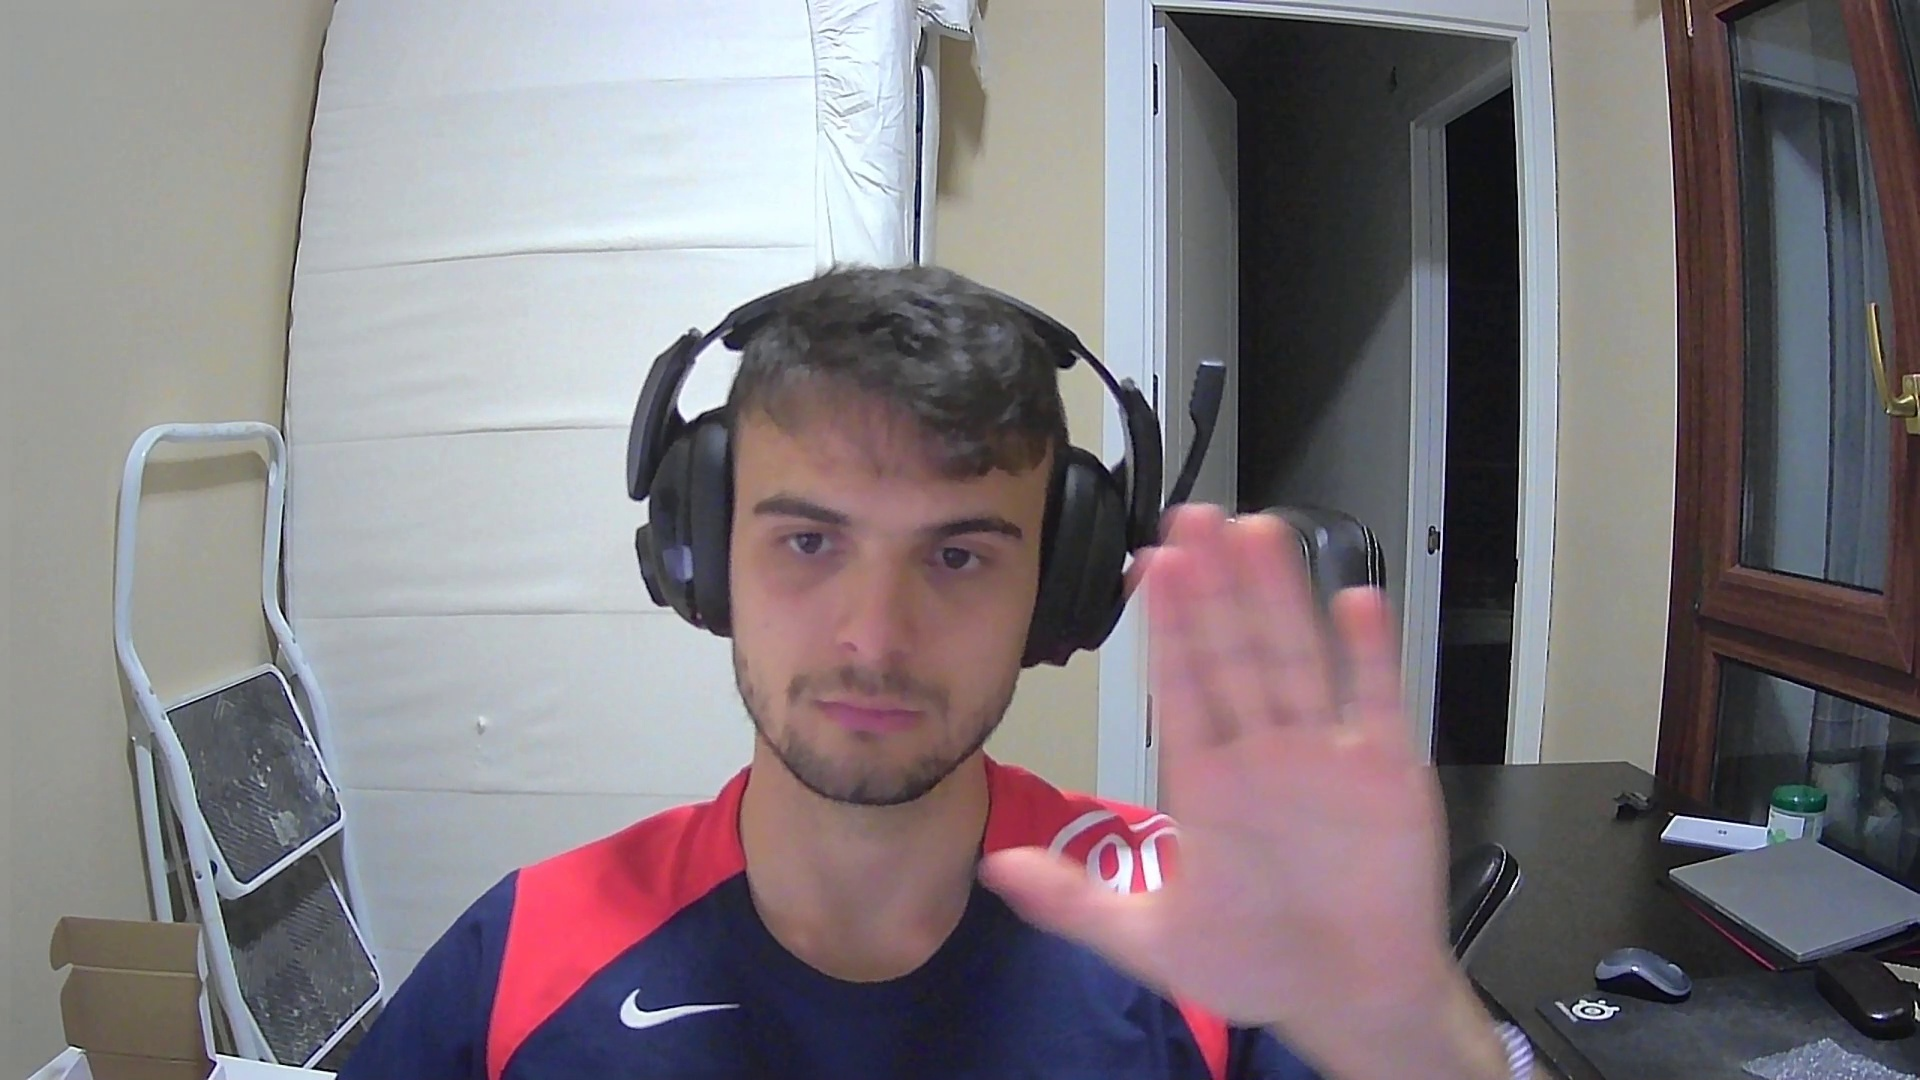Palm: (976, 500, 1452, 1044)
